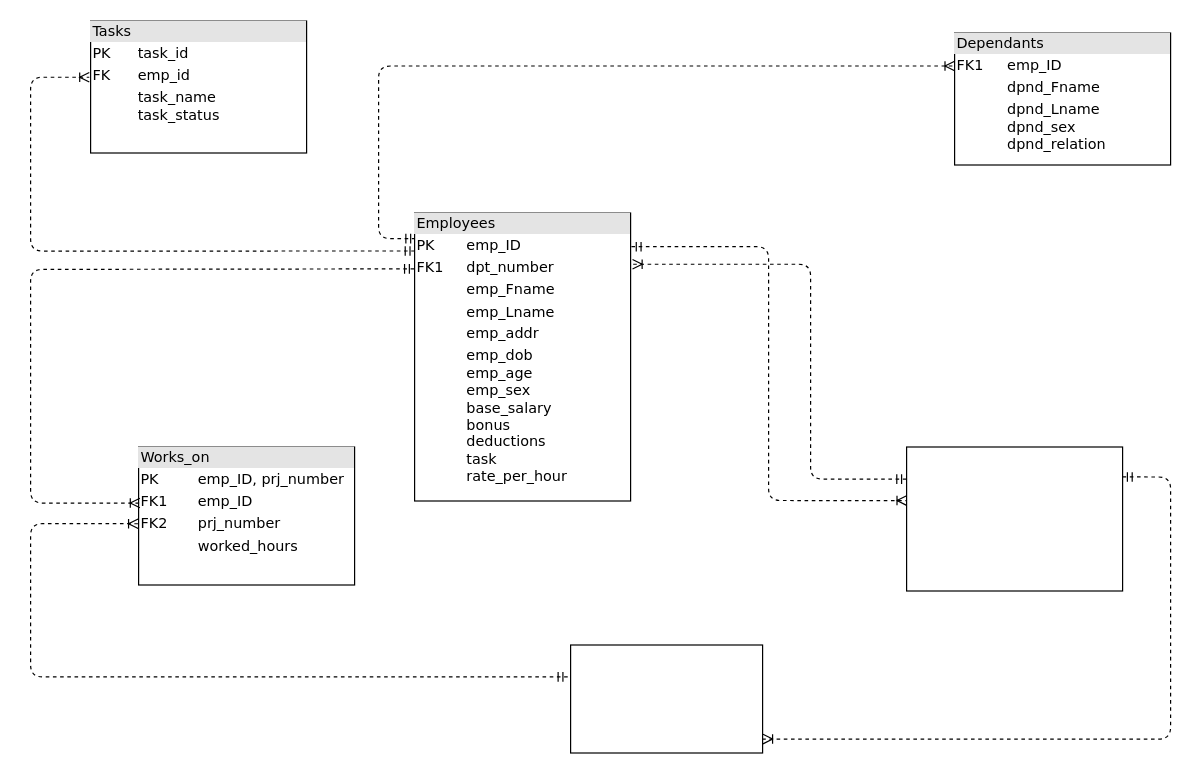
The diagram is 1202 pixels wide and 774 high, and some of its shapes have lost their labels. Here are the shapes that lost their labels. From the top down, the centre of each, then its label:
(1014,518): Departments PK dpt_number FK1 mgr_ID dpt_name dpt_location mgr_sDate
(666,698): Projects PK prj_number prj_name FK prj_location mng_dpt_id
